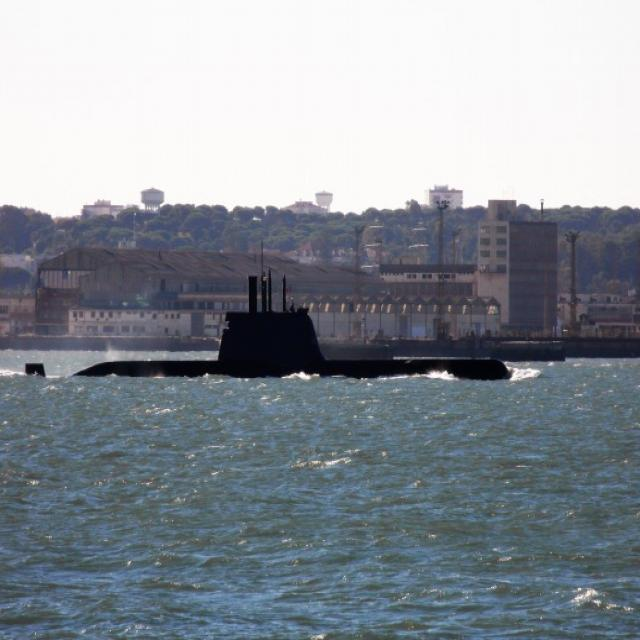submarine: (1, 285, 524, 374)
